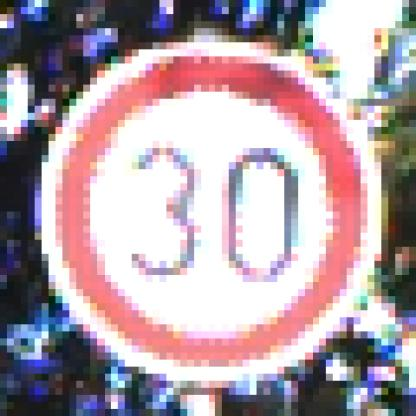Speed Limit 30: (45, 47, 375, 377)
